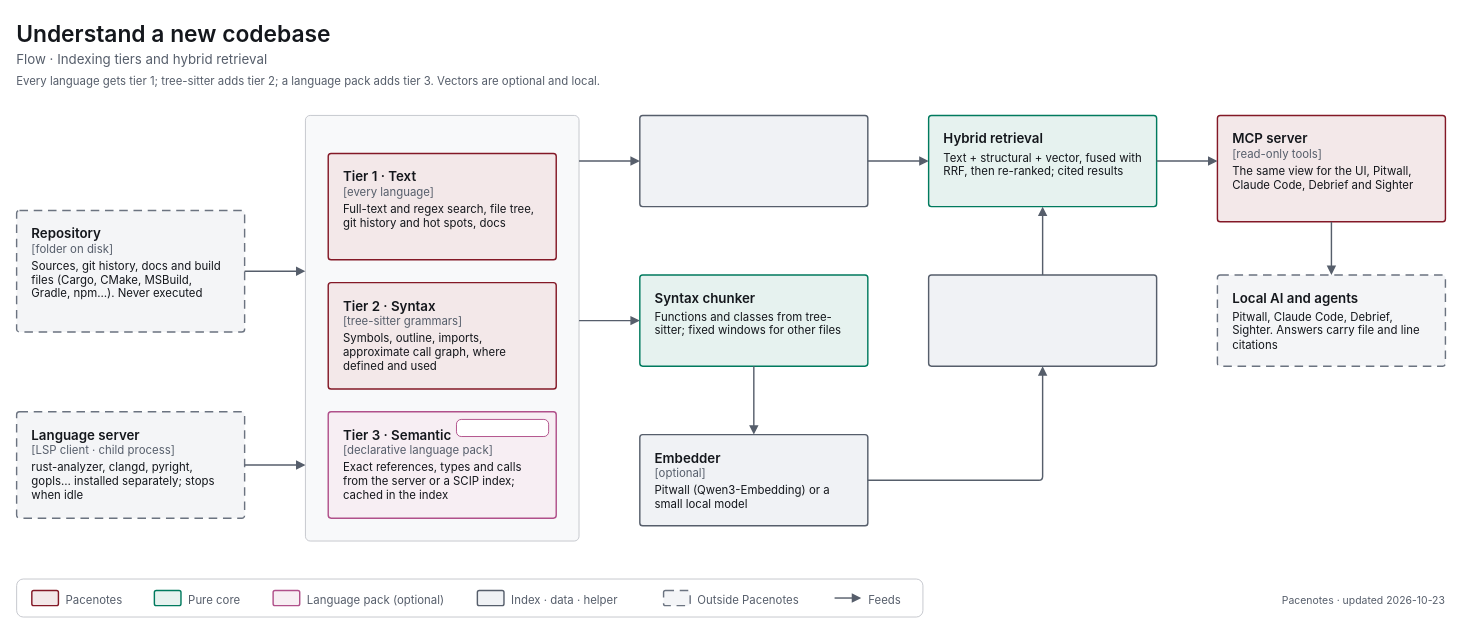
Some shapes in this 1463 by 634 pixel diagram are drawn without their labels. The shapes that lost their labels are listed below. From the top down, each one's box as (x1, y1, x2, y2) in pixels, then its label:
(639, 114, 868, 207): Local index [SQLite · incremental] Files, symbols, edges, FTS5 text, git facts
(304, 114, 579, 541): Indexing tiers (per language)
(927, 274, 1157, 367): Vector index [per repository · opt-in] Chunk embeddings, re-embedded on change
(456, 418, 549, 437): language pack
